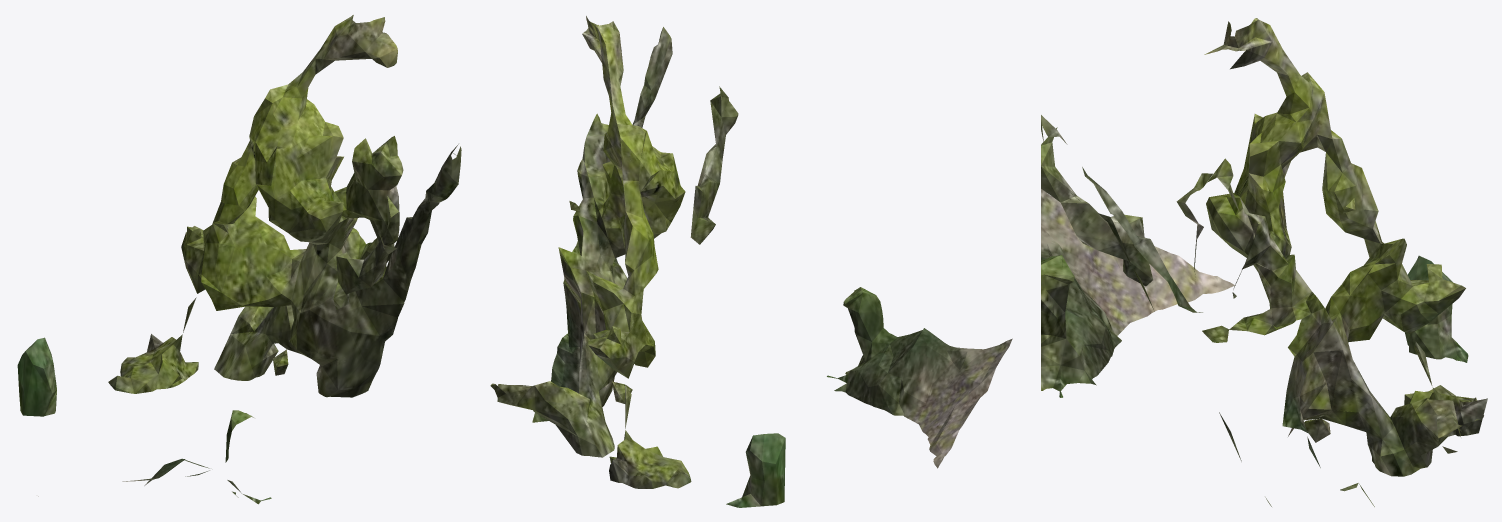
The picture shows the model from 3 angles, left to right: view 1: azimuth 30°, elevation 25°; view 2: azimuth 150°, elevation 25°; view 3: azimuth 270°, elevation 25°; orthographic projection. The views are drawn at different scales.
Bounding box in the file's own units: 5.9 × 5.9 × 5.01.
3 materials, 3 textured.
